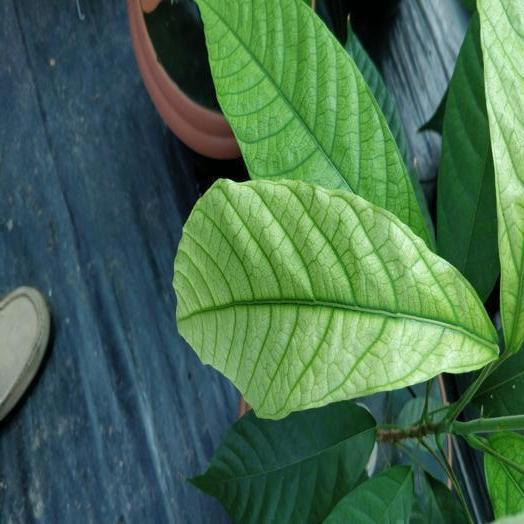Healthy Leaf: (189, 401, 375, 523), (344, 18, 433, 243), (437, 14, 499, 299), (323, 465, 413, 523)
Iron: (175, 179, 497, 419), (196, 0, 432, 249), (479, 0, 523, 350), (481, 432, 523, 518)
